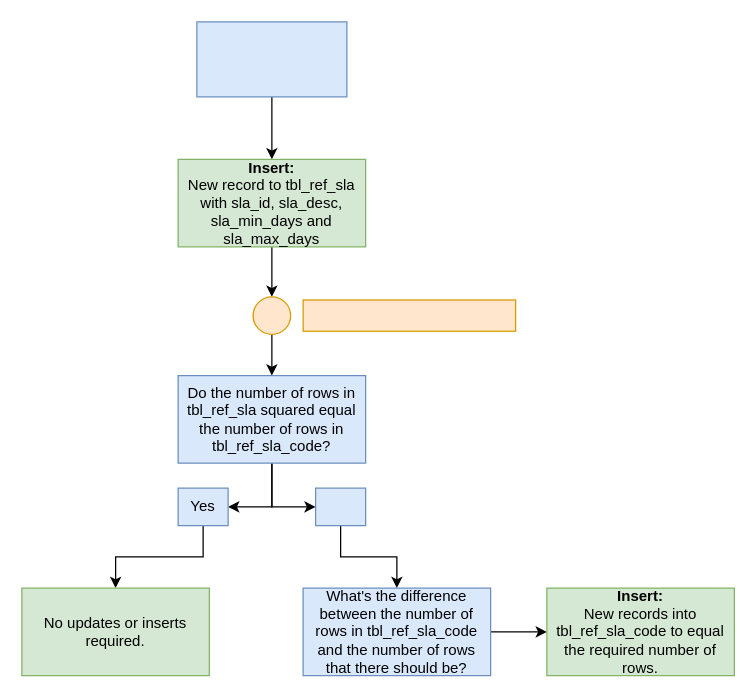
Image size: 756x699. Some labels were removed from this diagram. The shapes that lost their labels are listed below. From the top down, each one's centre as x and y in pixels, then its label:
At (x=271, y=59): "COO Focht Adds or requests to add a new SLA".
At (x=409, y=315): "trg_i_tbl_ref_sla".
At (x=340, y=506): "No".
